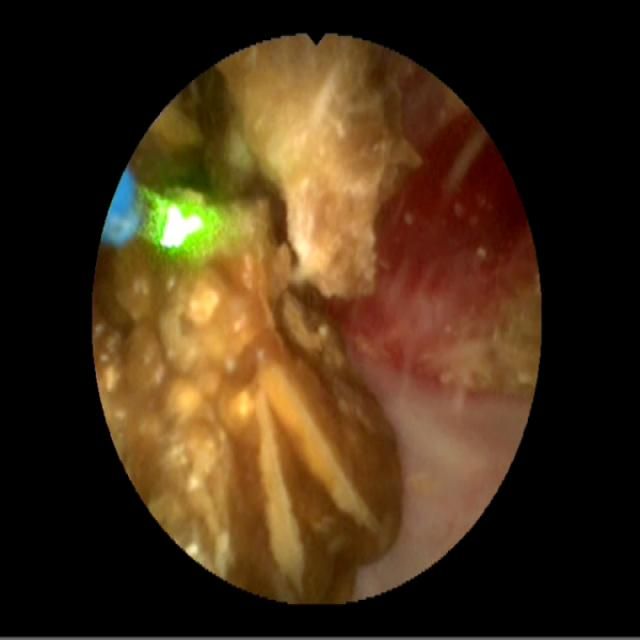fiber: (105, 171, 139, 246)
stone: (97, 43, 420, 599), (443, 282, 535, 395)
tissue: (338, 74, 527, 575)
